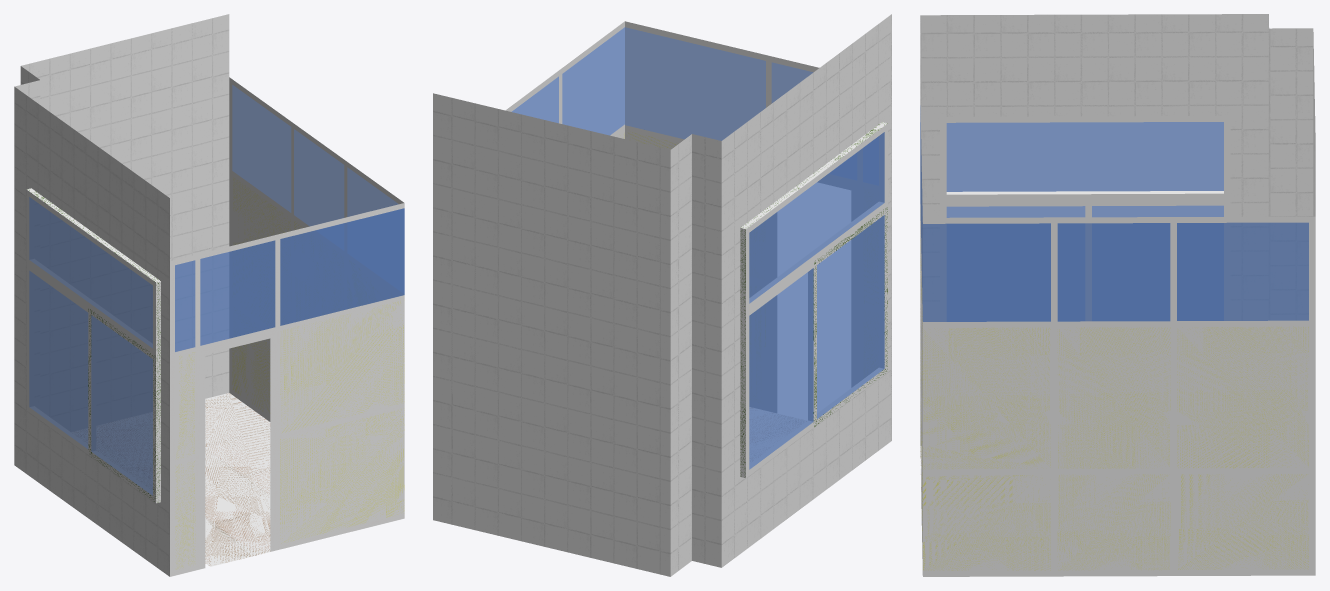
The model's file is DES021.obj.
3 views of the same model, side by side, from view 1: azimuth 30°, elevation 25°; view 2: azimuth 150°, elevation 25°; view 3: azimuth 270°, elevation 25° (orthographic). The views are drawn at different scales.
Visible parts, largest first — view 1: Mesh7 DES021 Model, Mesh1 ventana1_2_1 DES021 Model; view 2: Mesh7 DES021 Model, Mesh1 ventana1_2_1 DES021 Model; view 3: Mesh7 DES021 Model, Mesh1 ventana1_2_1 DES021 Model.
Part boxes in pixels (x1=…): Mesh7 DES021 Model: x1=14, y1=14, x2=404, y2=576; Mesh1 ventana1_2_1 DES021 Model: x1=26, y1=188, x2=160, y2=503; Mesh7 DES021 Model: x1=433, y1=14, x2=891, y2=576; Mesh1 ventana1_2_1 DES021 Model: x1=740, y1=122, x2=887, y2=477; Mesh7 DES021 Model: x1=920, y1=14, x2=1315, y2=576; Mesh1 ventana1_2_1 DES021 Model: x1=940, y1=116, x2=1230, y2=321.
Size of the model in its own units: 2.41 by 3.6 by 2.99.
Materials: 9 (2 with a texture image).
